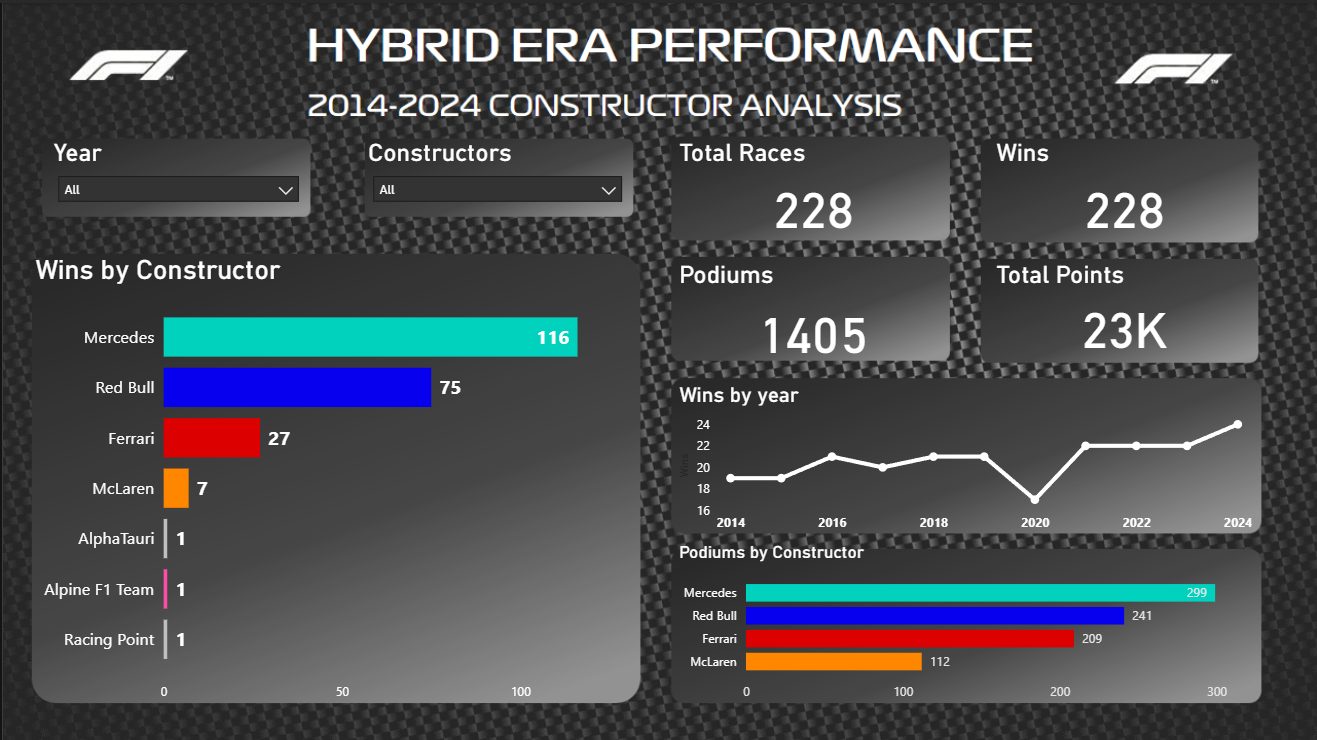

The page's visual inventory and layout, read from the dashboard file:
{"tool":"powerbi","page":{"name":"PERFORMANCE OVERVIEW","canvas":[1280,720],"ordinal":0},"visuals":[{"type":"card","title":"Wins","fields":{"Values":["results.Wins"]},"box":[961,131.3,259.7,102.1],"z":0},{"type":"card","title":"Total Races","fields":{"Values":["results.Total Races"]},"box":[652.6,131.3,271.4,102.1],"z":1000},{"type":"card","title":"Podiums","fields":{"Values":["results.Podiums"]},"box":[652.6,250,271.4,108.9],"z":2000},{"type":"card","title":"Total Points","fields":{"Values":["results.Total Points"]},"box":[961,250,259.7,98.2],"z":3000},{"type":"clusteredBarChart","title":"Wins by Constructor","fields":{"Category":["constructors.name"],"Y":["results.Wins"]},"box":[26.3,243.2,585.5,444.5],"z":4000},{"type":"slicer","title":"Year","fields":{"Values":["races.year"]},"box":[43.8,131.3,253.9,80.7],"z":5000},{"type":"slicer","title":"Constructors","fields":{"Values":["constructors.name"]},"box":[350.2,131.3,261.6,73.9],"z":6000},{"type":"lineChart","fields":{"Category":["races.year"],"Y":["results.Wins"]},"box":[652.8,368.6,567.3,154.9],"z":7000},{"type":"clusteredBarChart","title":"Podiums by Constructor","fields":{"Category":["constructors.name"],"Y":["results.Podiums"]},"box":[652.8,524.6,567.3,163.5],"z":8000}]}

Visuals, with their boxes in screenshot pixels (x1, y1, x2, y2), scaled from the page's 1280x720 canvas onto the 1317x740 screenshot:
"Wins" card: l=989, t=135, r=1256, b=240
"Total Races" card: l=671, t=135, r=951, b=240
"Podiums" card: l=671, t=257, r=951, b=369
"Total Points" card: l=989, t=257, r=1256, b=358
"Wins by Constructor" clusteredBarChart: l=27, t=250, r=629, b=707
"Year" slicer: l=45, t=135, r=306, b=218
"Constructors" slicer: l=360, t=135, r=629, b=211
lineChart - races.year x results.Wins: l=672, t=379, r=1255, b=538
"Podiums by Constructor" clusteredBarChart: l=672, t=539, r=1255, b=707
